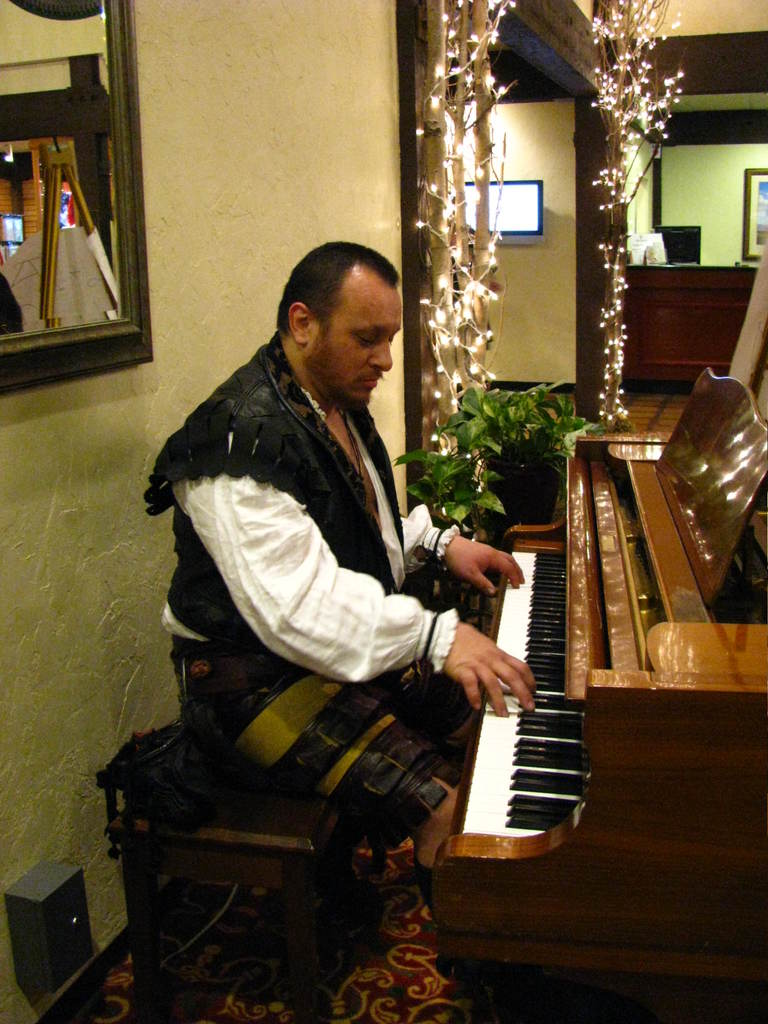Person: (143, 237, 540, 919)
